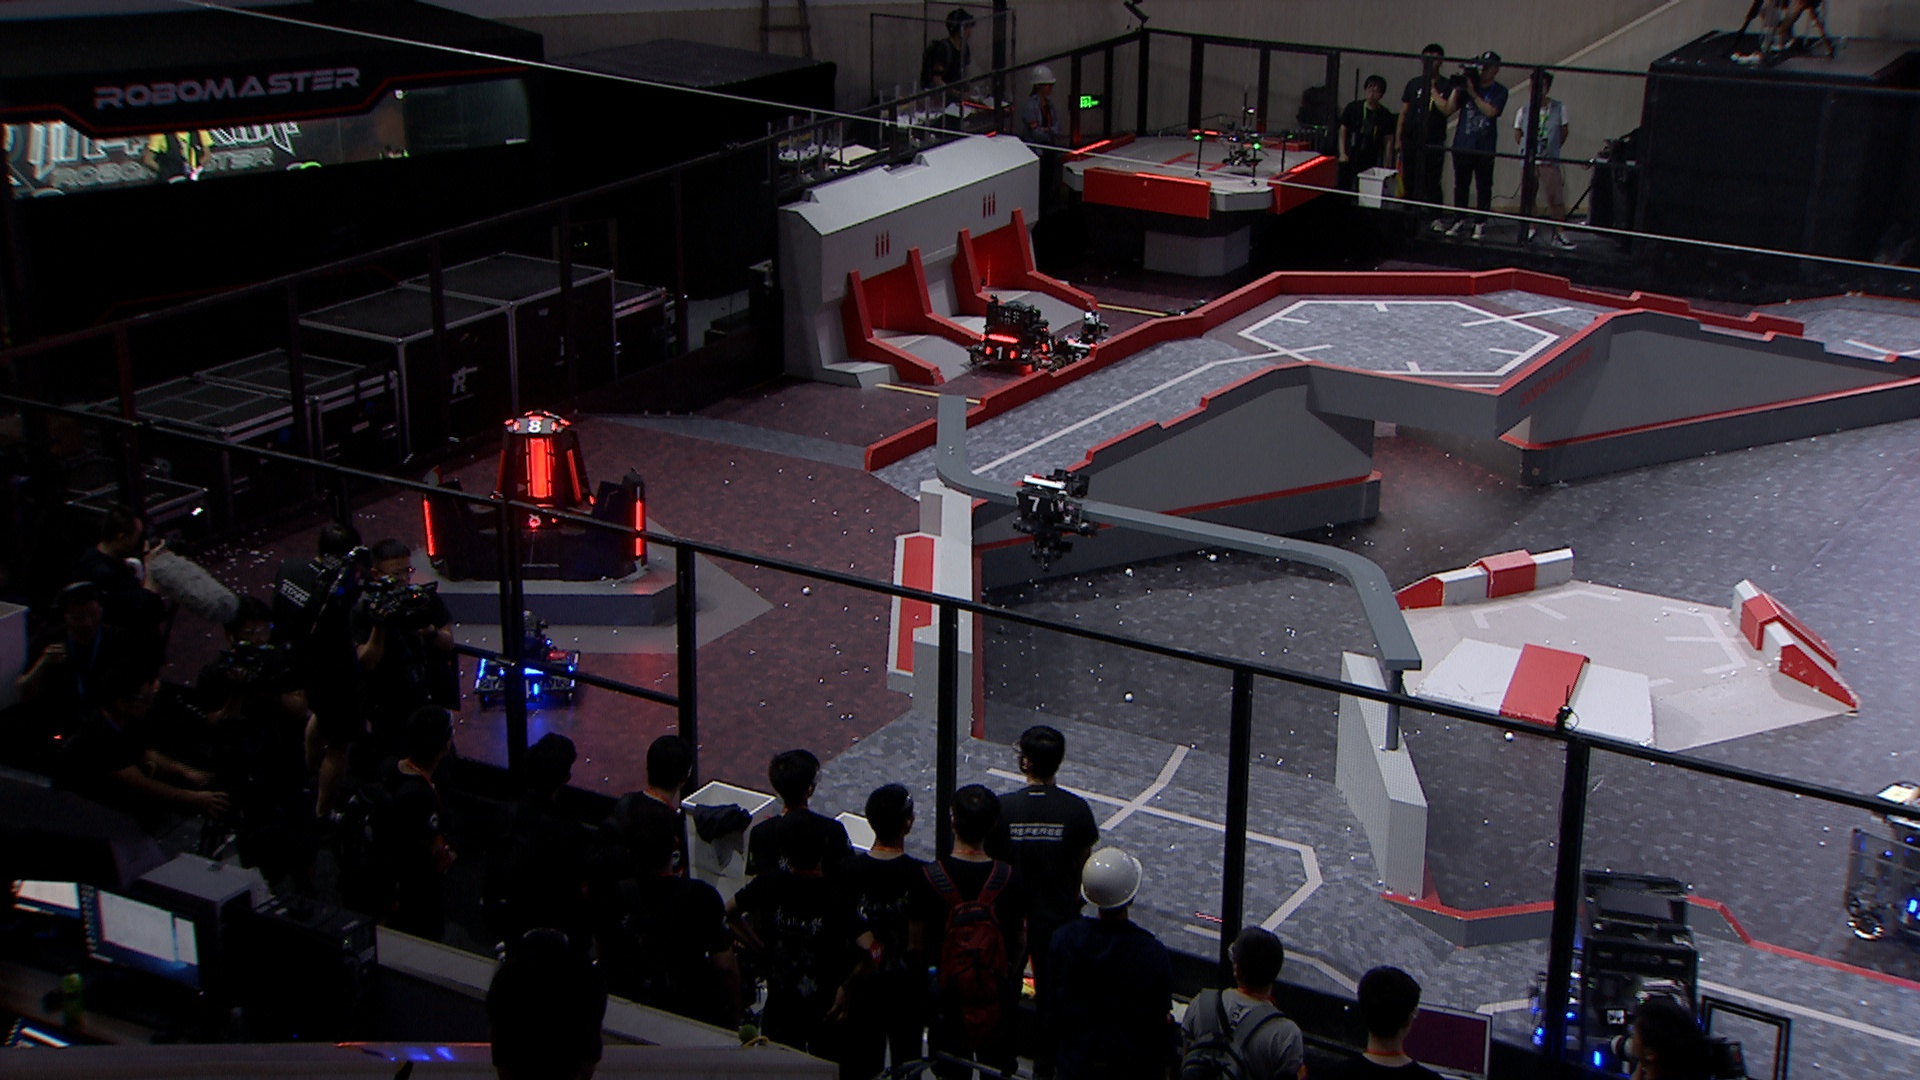armor: (522, 438, 556, 500), (1588, 1050, 1636, 1079), (419, 495, 439, 559), (629, 498, 647, 560), (1011, 495, 1058, 517), (564, 448, 582, 502), (489, 447, 506, 501), (520, 510, 560, 531), (1527, 1004, 1548, 1044), (981, 343, 1019, 363), (509, 418, 560, 433), (520, 679, 542, 702), (1039, 338, 1060, 353), (1069, 349, 1087, 365)
base: (417, 411, 647, 585)
car: (1524, 869, 1704, 1080), (1837, 779, 1920, 953), (467, 607, 583, 708), (967, 295, 1063, 376), (1048, 310, 1121, 371)
watcher: (1007, 469, 1100, 571)
